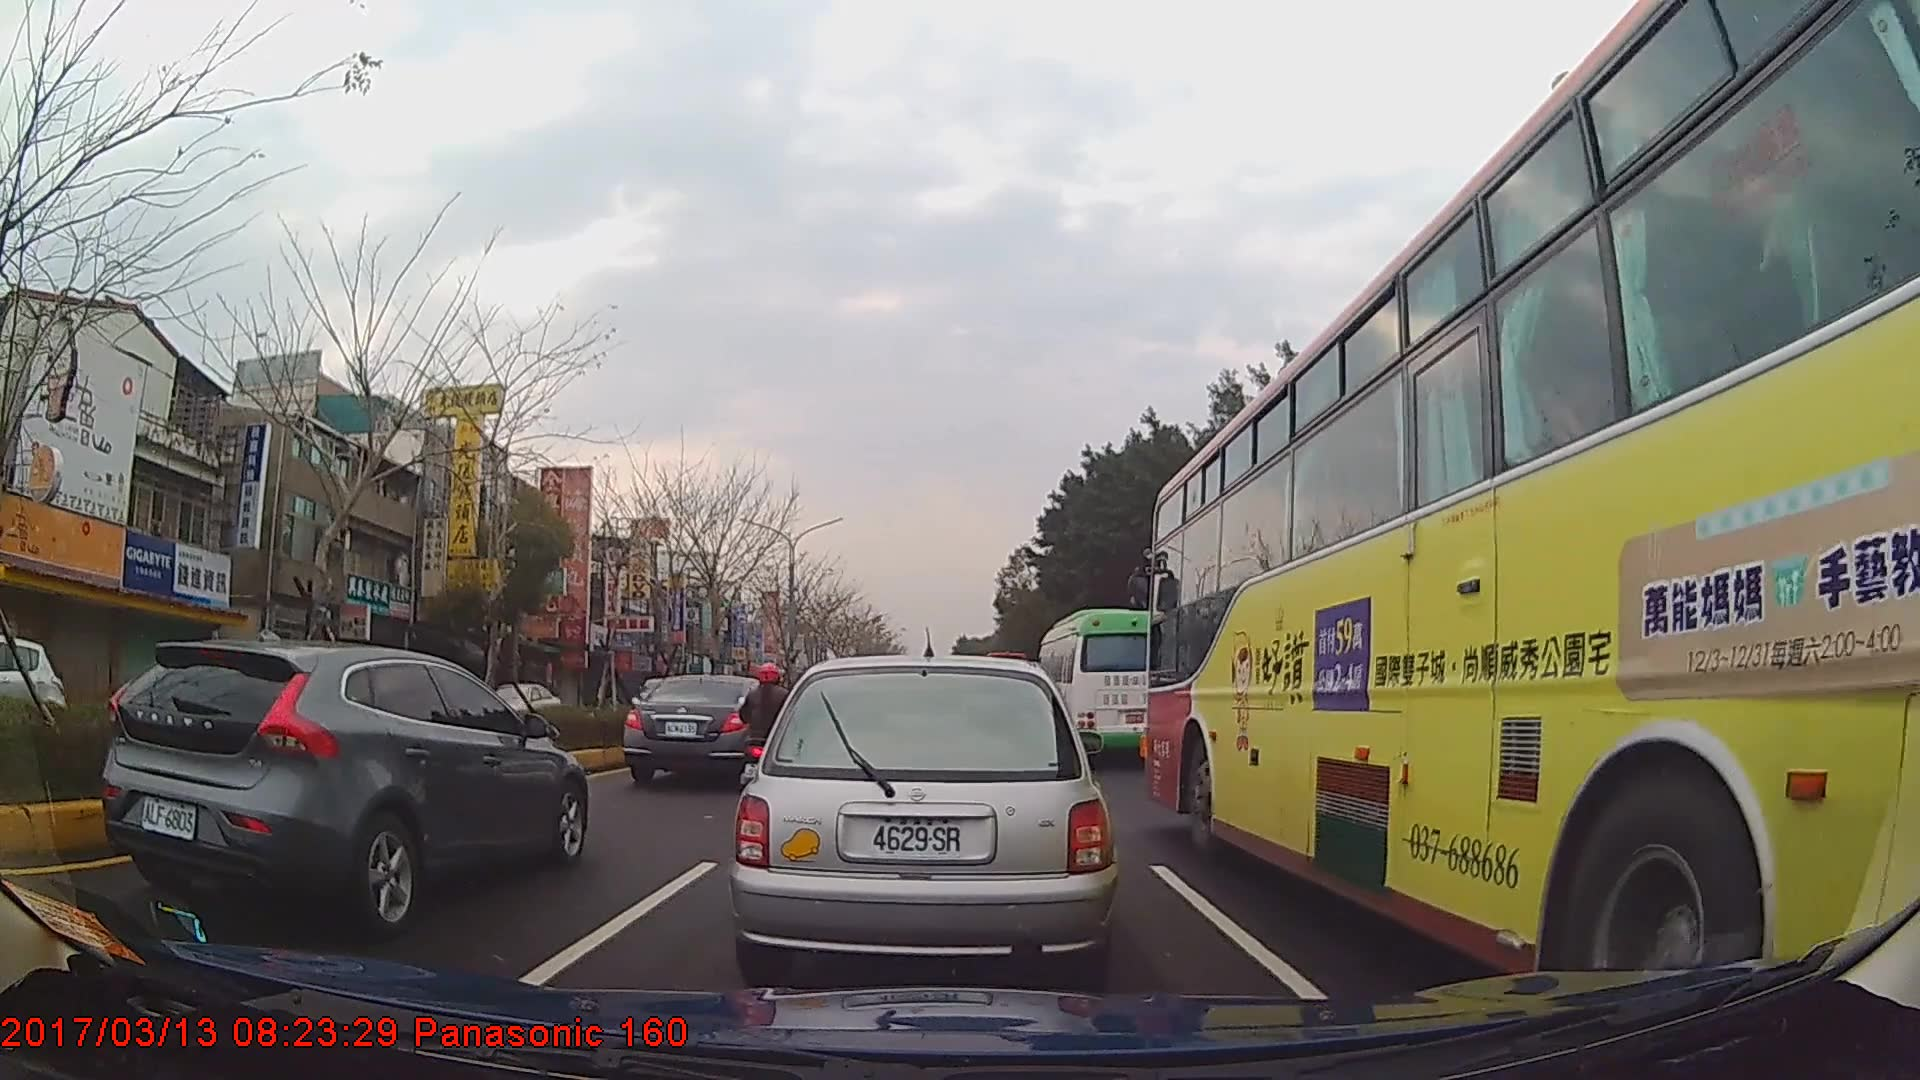rider: (740, 663, 801, 806)
vehicle: (1144, 0, 1919, 1031), (98, 635, 588, 926), (732, 652, 1118, 982), (1037, 608, 1164, 760), (623, 672, 784, 789), (0, 635, 66, 761), (477, 680, 558, 730)
